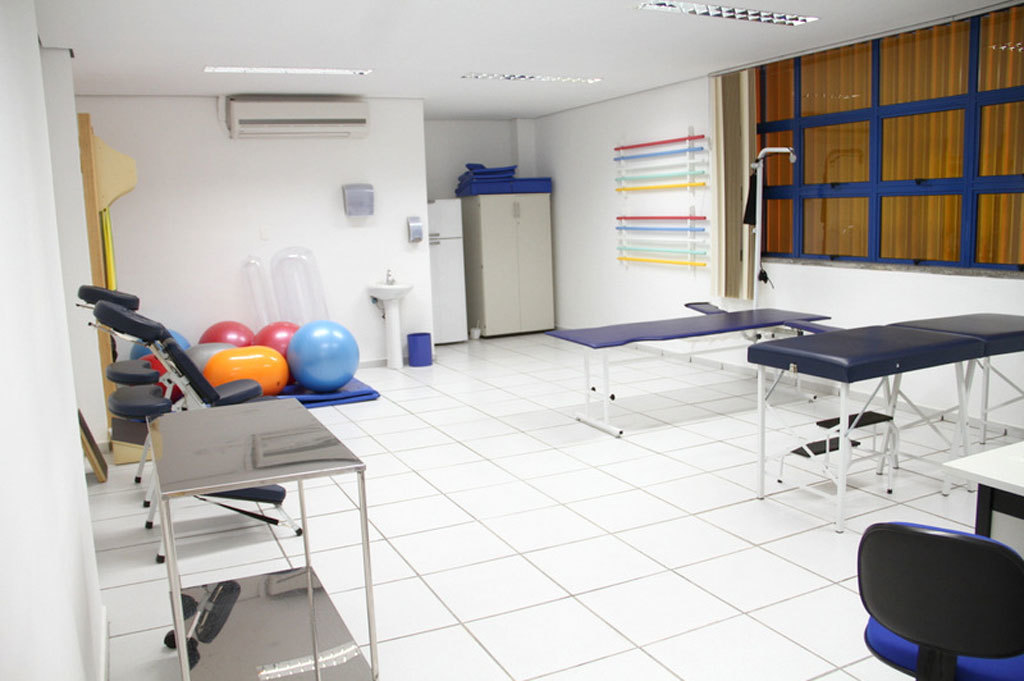Ball: (289, 319, 359, 392), (207, 345, 277, 402), (126, 324, 195, 361), (256, 320, 293, 359), (203, 319, 252, 341)
